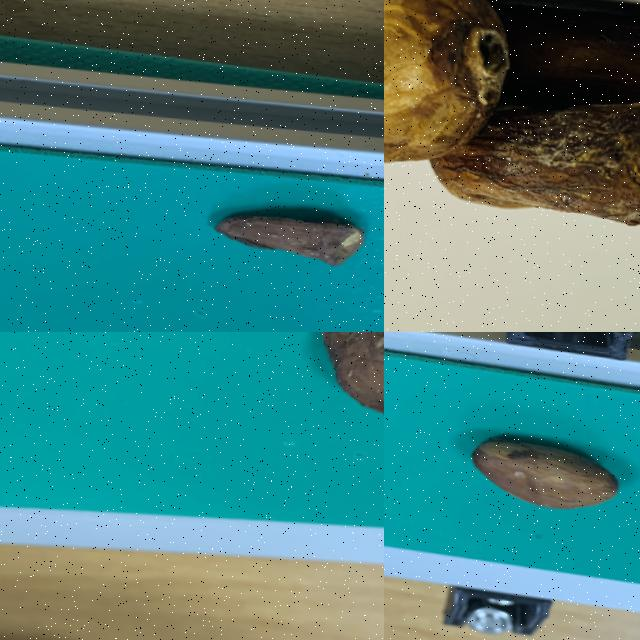Agglomerated_cocoabeans: (384, 0, 639, 255)
Fine_cocoabeans: (428, 376, 639, 543)
Flat_cocoabeans: (171, 162, 383, 297), (187, 332, 383, 437)
